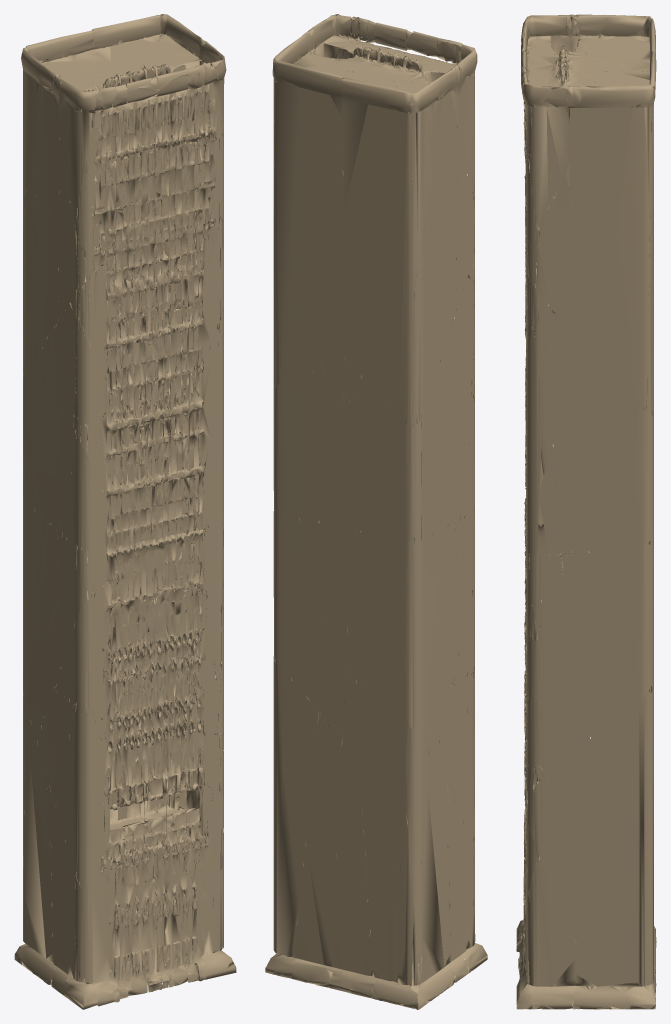
File: burj-vista-1.glb
3 renders of one model, left to right at view 1: azimuth 30°, elevation 25°; view 2: azimuth 150°, elevation 25°; view 3: azimuth 270°, elevation 25°, orthographic.
Visible parts, largest first — view 1: Mesh_0; view 2: Mesh_0; view 3: Mesh_0.
Part boxes in pixels (<box>): Mesh_0: <box>14,14,236,1009</box>; Mesh_0: <box>265,14,487,1009</box>; Mesh_0: <box>516,14,656,1009</box>.
Bounding box in the file's own units: 45 × 255 × 35.
